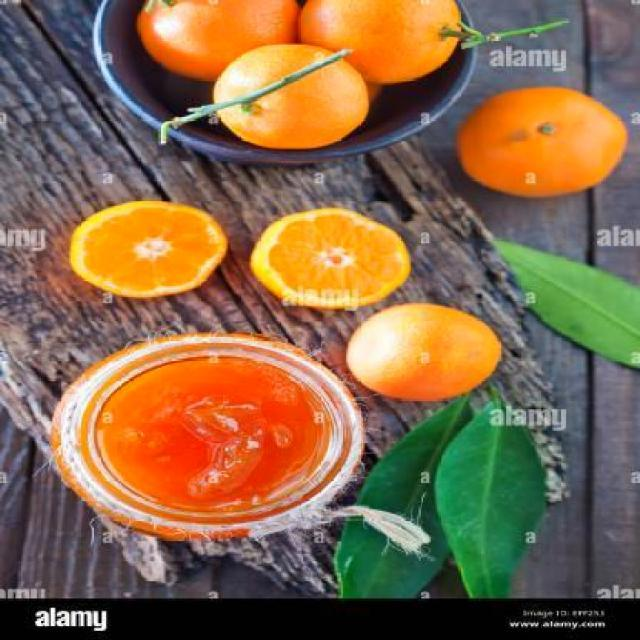Jeruk Sudah Matang: (455, 84, 623, 198), (215, 43, 374, 149), (350, 298, 504, 404), (294, 0, 462, 83), (126, 0, 304, 78)
